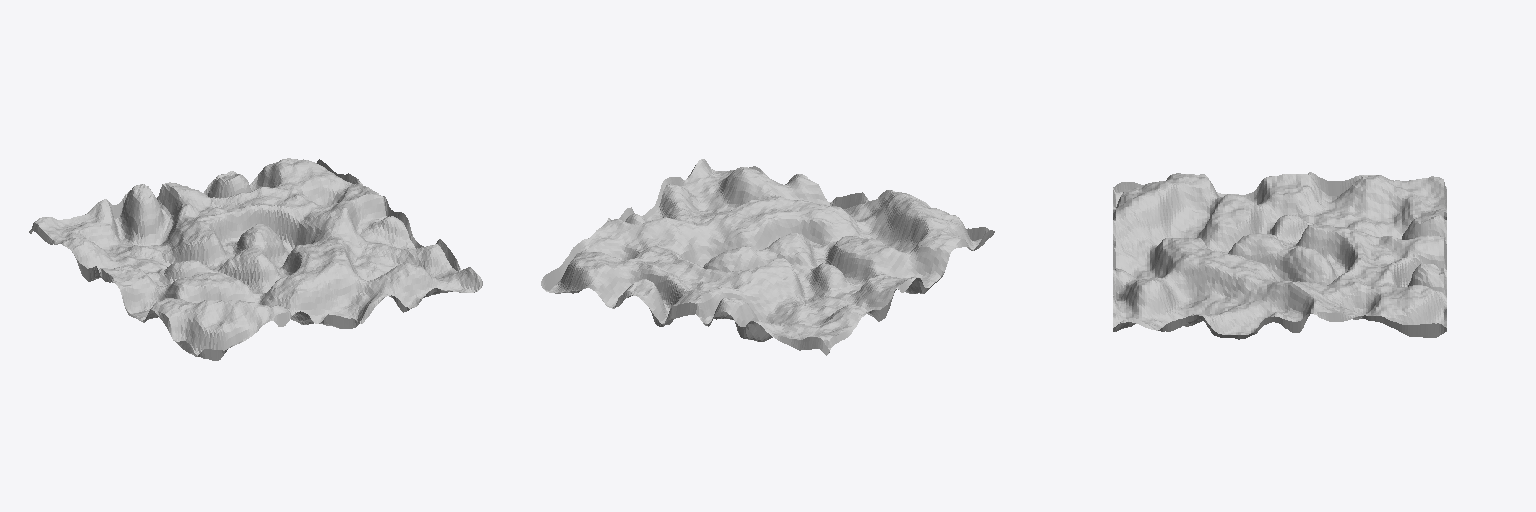
The model's file is Map.obj.
3 renders of one model, left to right at view 1: azimuth 30°, elevation 25°; view 2: azimuth 150°, elevation 25°; view 3: azimuth 270°, elevation 25°, orthographic.
Parts seen in each view (by area): view 1: Plane_Plane.001; view 2: Plane_Plane.001; view 3: Plane_Plane.001.
Boxes of the visible parts, <box> form: Plane_Plane.001: <box>29,158,482,360</box>; Plane_Plane.001: <box>541,159,994,355</box>; Plane_Plane.001: <box>1113,172,1446,339</box>.
Bounding box in the file's own units: 64 × 9.78 × 64.